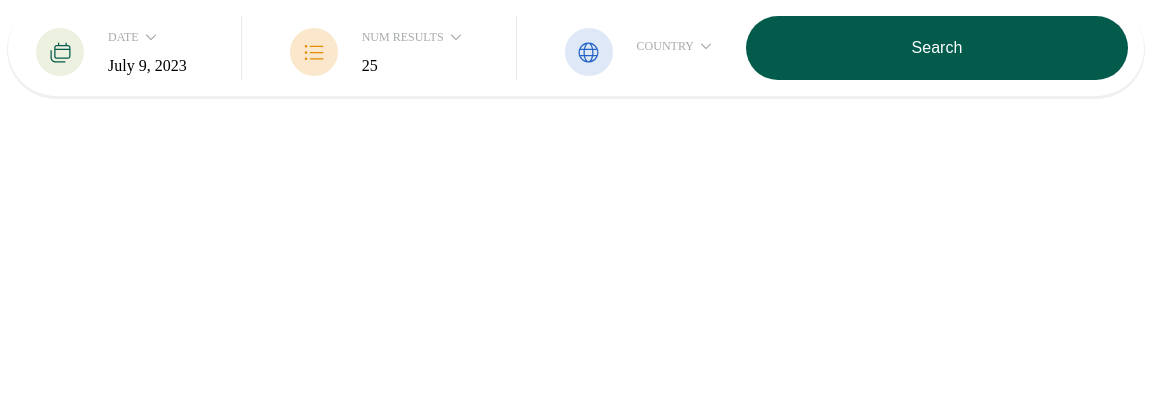
Test case: renders a functional page-picker
Expected: the text "25" is shown, [362, 56, 378, 74]
Step 1. Click the element with test id "num-per-page-picker" → (314, 52), box [278, 16, 480, 80]
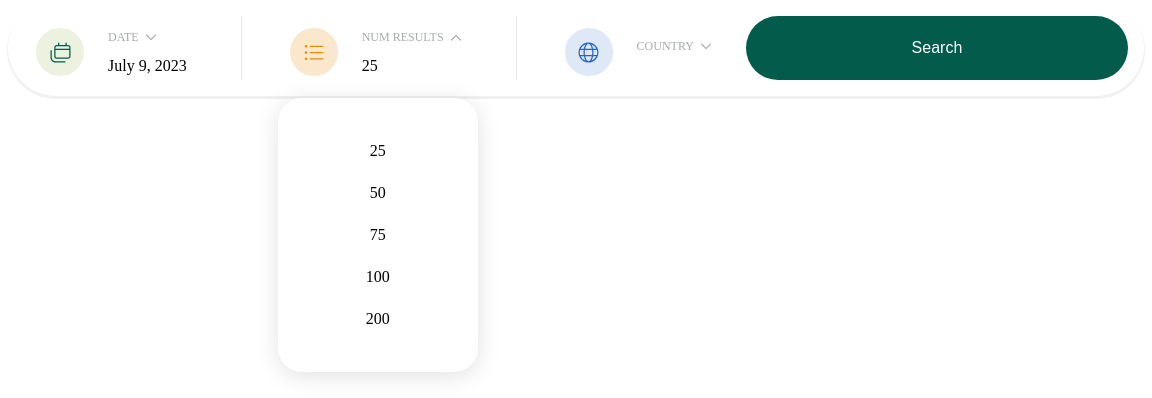
Now the element with test id "dropdown-container" is shown, box [278, 98, 478, 372]
Step 2. Click the text "100" → (378, 276), box [366, 268, 390, 285]
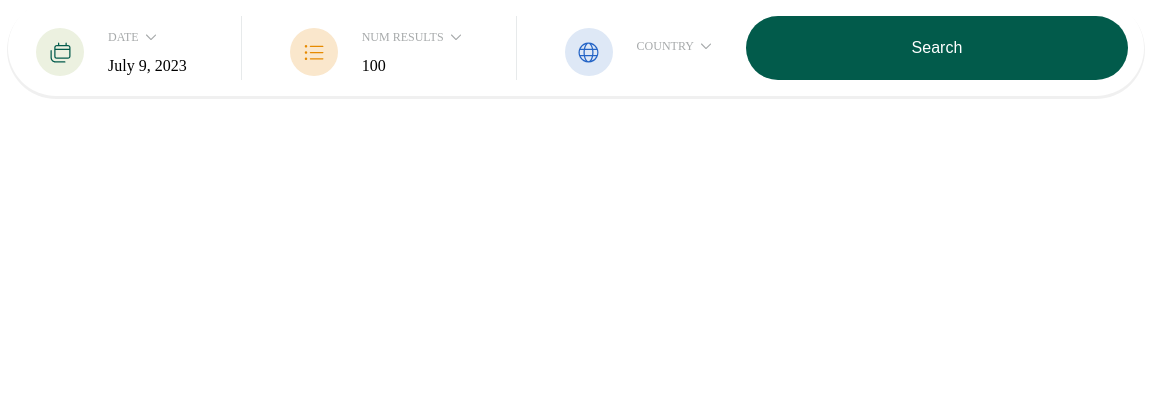
Now the text "100" is shown, box [362, 56, 386, 74]
